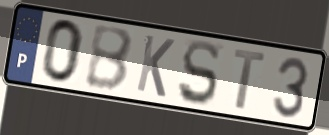0: (38, 18, 89, 85)
3: (270, 55, 310, 120)
B: (83, 24, 135, 94)
K: (134, 32, 177, 101)
S: (176, 39, 221, 108)
T: (232, 48, 268, 112)
